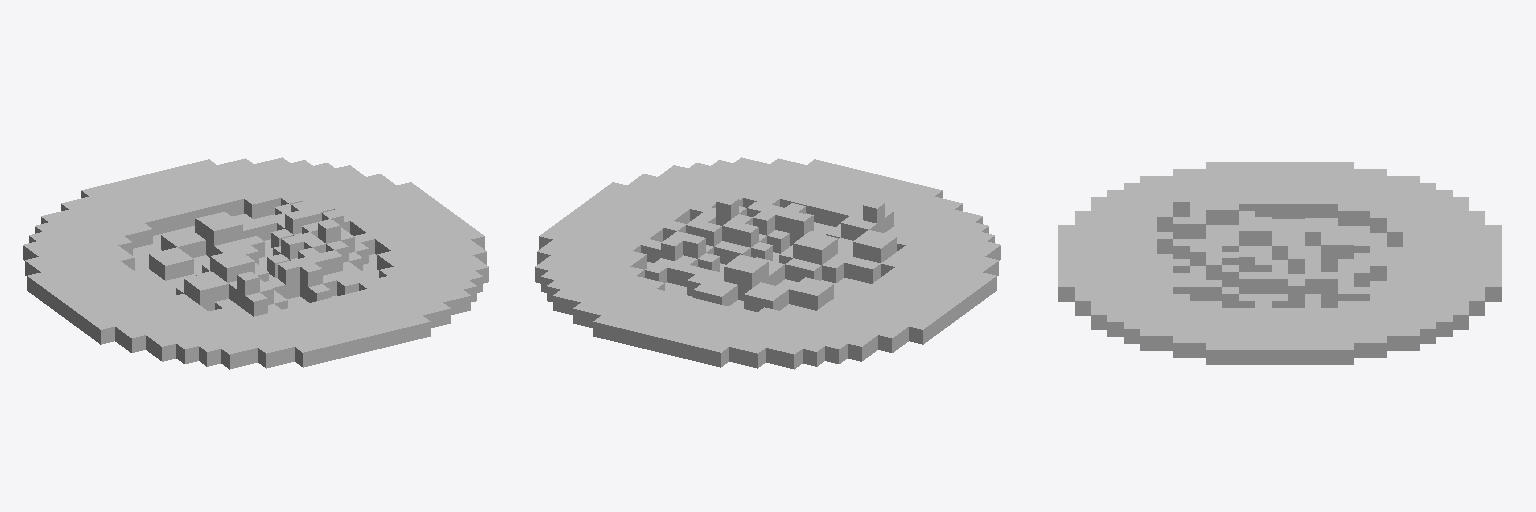
File: Plate.obj
The picture shows the model from 3 angles: view 1: azimuth 30°, elevation 25°; view 2: azimuth 150°, elevation 25°; view 3: azimuth 270°, elevation 25°; orthographic projection.
Parts seen in each view (by area): view 1: object 1; view 2: object 1; view 3: object 1.
Boxes of the visible parts, x1,y1,x2,y2 form: object 1: [23, 157, 488, 369]; object 1: [535, 157, 1000, 369]; object 1: [1058, 162, 1501, 364].
Bounding box in the file's own units: 2.7 × 0.4 × 2.7.